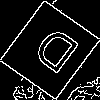D: (24, 25, 82, 83)
